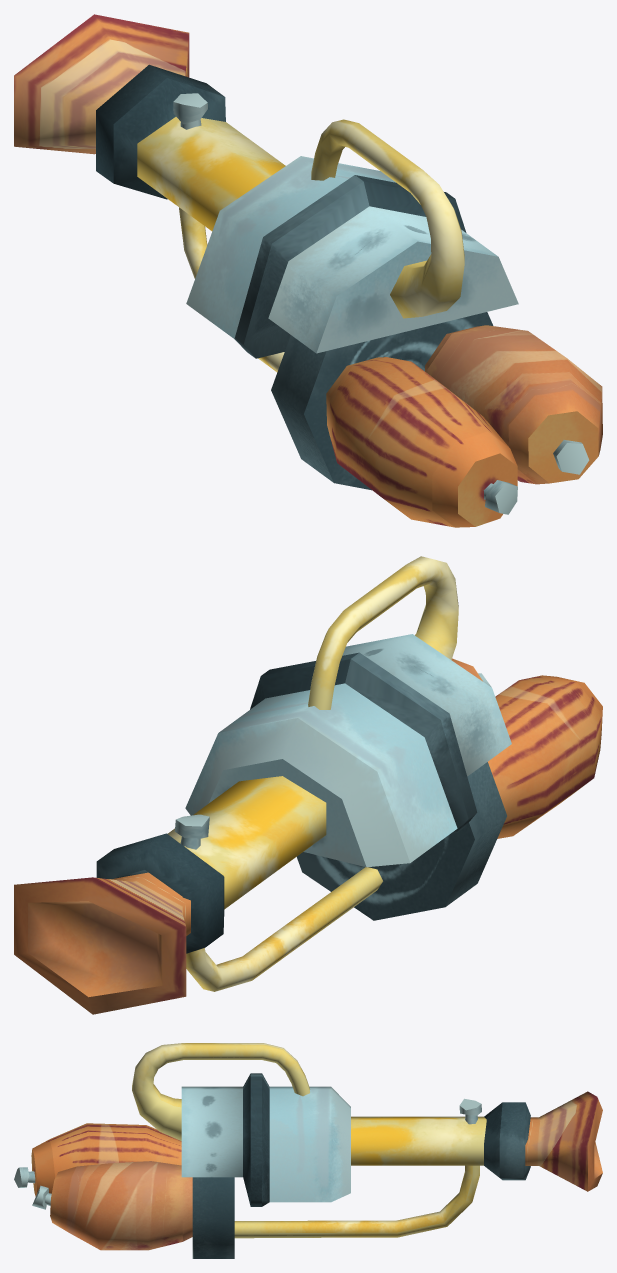
The model's file is m_vacuum.fbx.
3 views of the same model, one above another, from view 1: azimuth 30°, elevation 25°; view 2: azimuth 150°, elevation 25°; view 3: azimuth 270°, elevation 25° (orthographic). The views are drawn at different scales.
Visible parts, largest first — view 1: m_vacuum; view 2: m_vacuum; view 3: m_vacuum.
Part boxes in pixels (x1,y1,x2,y2): m_vacuum: [14, 14, 602, 527]; m_vacuum: [14, 556, 602, 1014]; m_vacuum: [14, 1043, 602, 1258].
Bounding box in the file's own units: 44.51 × 58.73 × 148.
